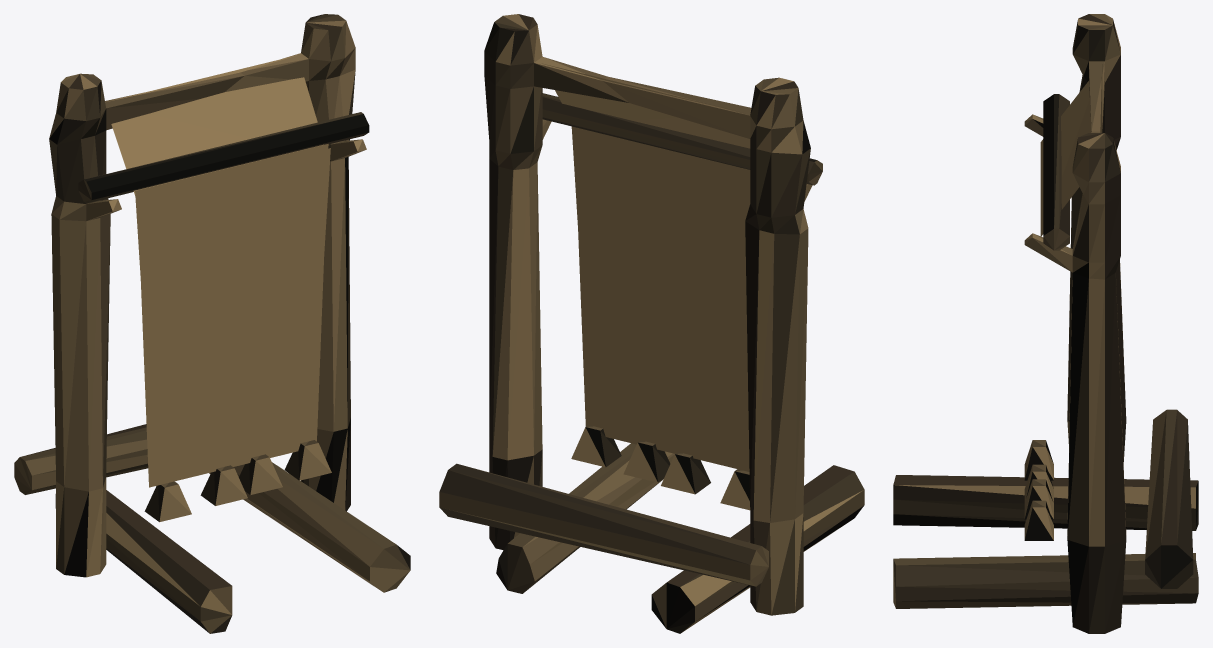
File: loom.obj
3 renders of one model, left to right at view 1: azimuth 30°, elevation 25°; view 2: azimuth 150°, elevation 25°; view 3: azimuth 270°, elevation 25°, orthographic. The views are drawn at different scales.
Parts seen in each view (by area): view 1: ware; view 2: ware; view 3: ware.
Part boxes in pixels (<box>): ware: <box>14,14,410,633</box>; ware: <box>439,14,864,633</box>; ware: <box>893,14,1198,633</box>.
Bounding box in the file's own units: 128 × 199 × 114.
